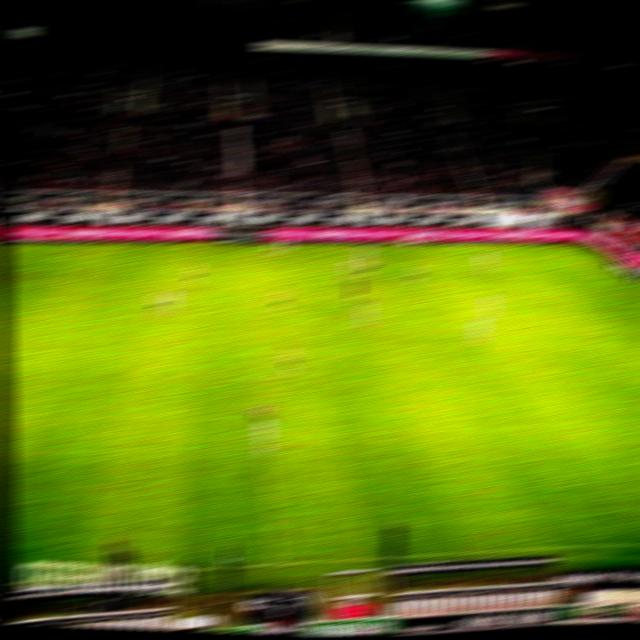bigarea_top_inner: (501, 270, 520, 281)
bigarea_top_outter: (610, 267, 630, 280)
bottom_arc_area_intersection: (597, 353, 616, 365)
corner: (566, 241, 586, 253)
halfcircle_bottom: (246, 375, 266, 386)
halfcircle_top: (239, 303, 259, 315)
midline_bottom_intersection: (263, 555, 289, 573)
midline_top_intersection: (233, 242, 252, 253)
smallarea_top_inner: (618, 297, 638, 309)
top_arc_area_intersection: (539, 302, 560, 315)
